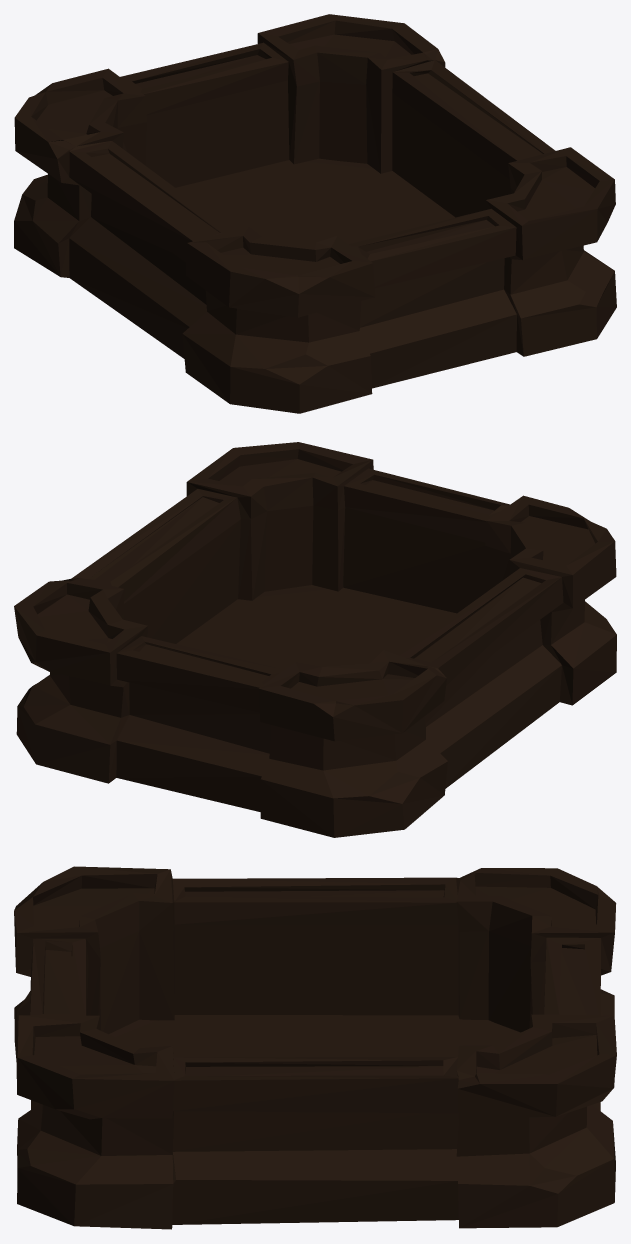
File: SFFA_Bar_Stand.fbx
3 views of the same model, one above another, from view 1: azimuth 30°, elevation 25°; view 2: azimuth 150°, elevation 25°; view 3: azimuth 270°, elevation 25° (orthographic). The views are drawn at different scales.
Parts seen in each view (by area): view 1: SFFA_Bar_Stand; view 2: SFFA_Bar_Stand; view 3: SFFA_Bar_Stand.
Boxes of the visible parts, x1,y1,x2,y2 form: SFFA_Bar_Stand: [14, 14, 616, 413]; SFFA_Bar_Stand: [14, 442, 616, 837]; SFFA_Bar_Stand: [14, 866, 616, 1229].
Bounding box in the file's own units: 39.89 × 13.12 × 47.14.
